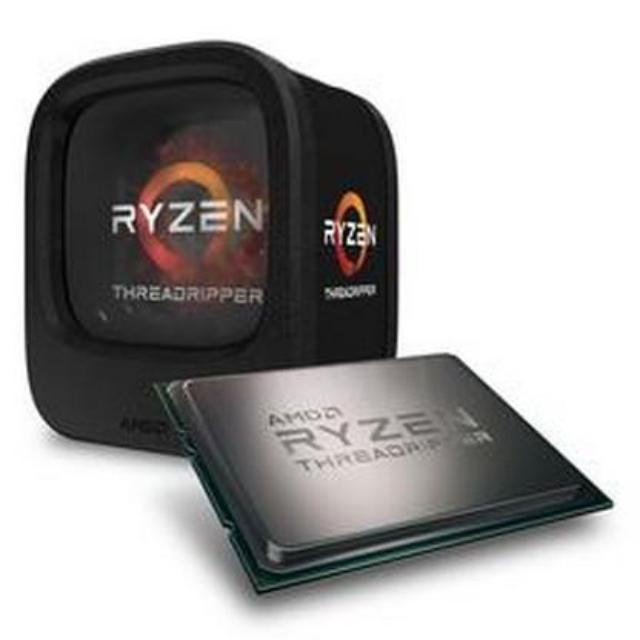CPU: (140, 346, 606, 602)
